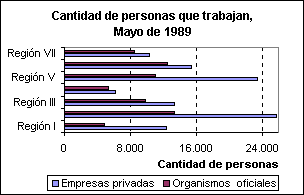canvas: (67, 48, 280, 131)
legend: (45, 159, 281, 193)
title: (50, 8, 256, 38)
x-axis: (62, 130, 282, 136)
x-labels: (59, 142, 282, 154)
y-axis: (59, 46, 67, 139)
y-labels: (6, 47, 58, 133)
